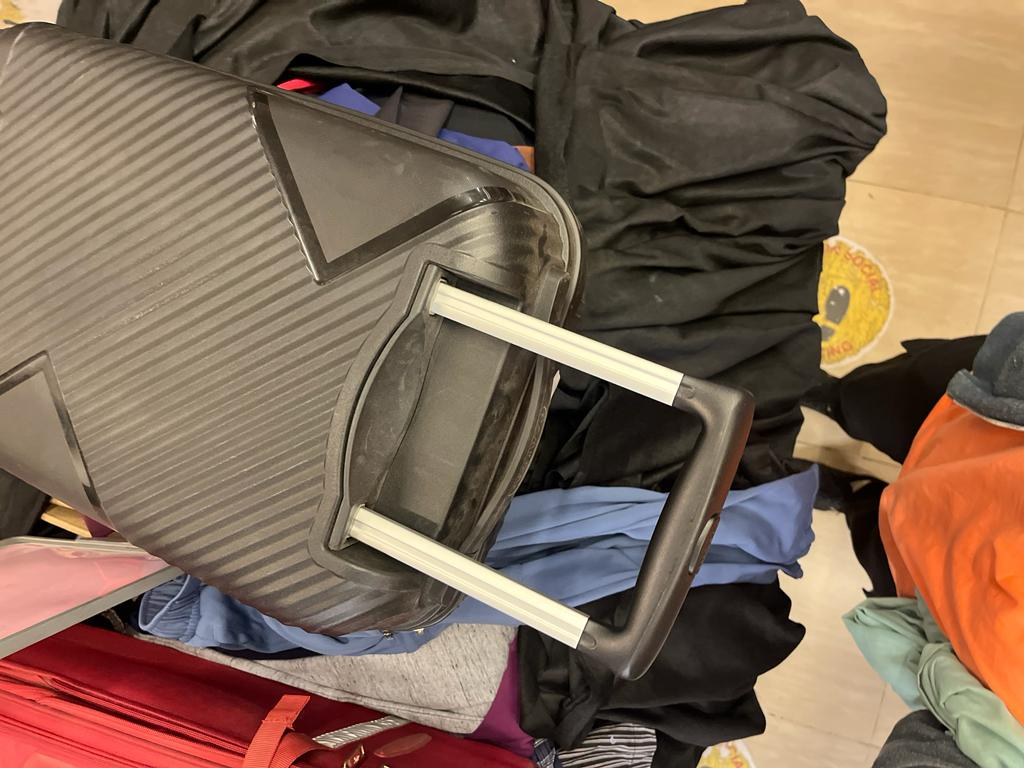Bag: (0, 8, 765, 708)
Handle: (310, 271, 757, 699)
